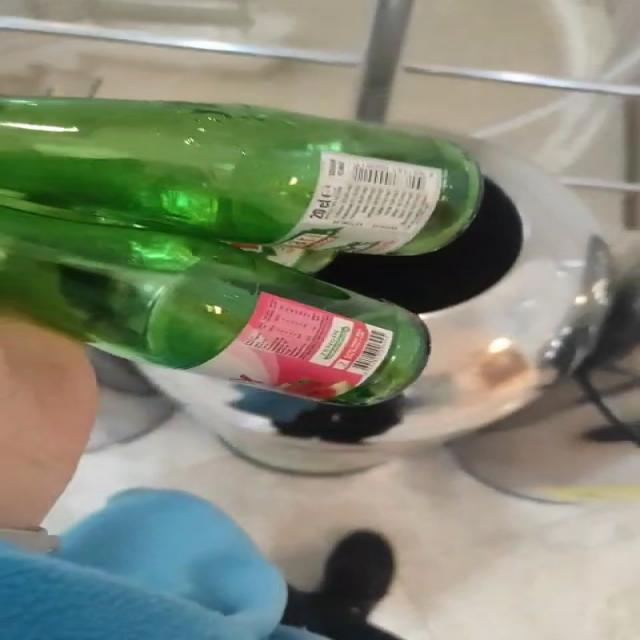Glass: (3, 97, 484, 406)
